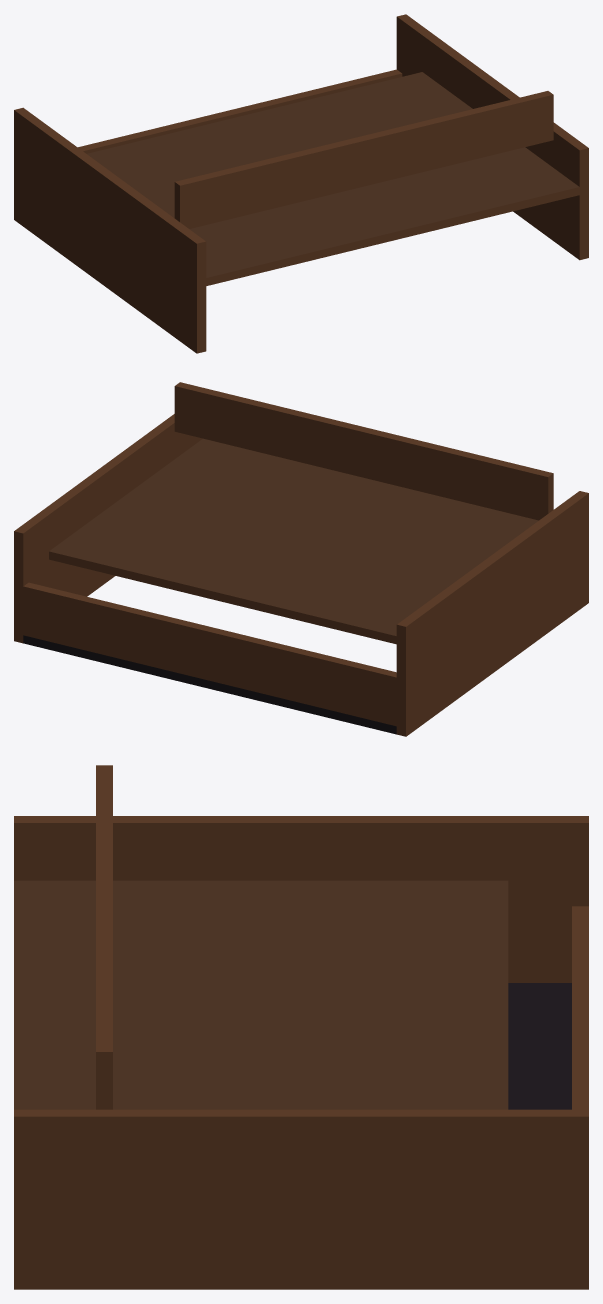
File: Playfield.obj
The picture shows the model from 3 angles, top to bottom: view 1: azimuth 30°, elevation 25°; view 2: azimuth 150°, elevation 25°; view 3: azimuth 270°, elevation 25°; orthographic projection. The views are drawn at different scales.
Parts seen in each view (by area): view 1: Playfield; view 2: Playfield; view 3: Playfield.
Boxes of the visible parts, bbox=[...] form: Playfield: bbox=[14, 14, 588, 353]; Playfield: bbox=[14, 382, 588, 736]; Playfield: bbox=[14, 765, 588, 1289].
Size of the model in its own units: 0.504 by 0.18 by 0.407.
